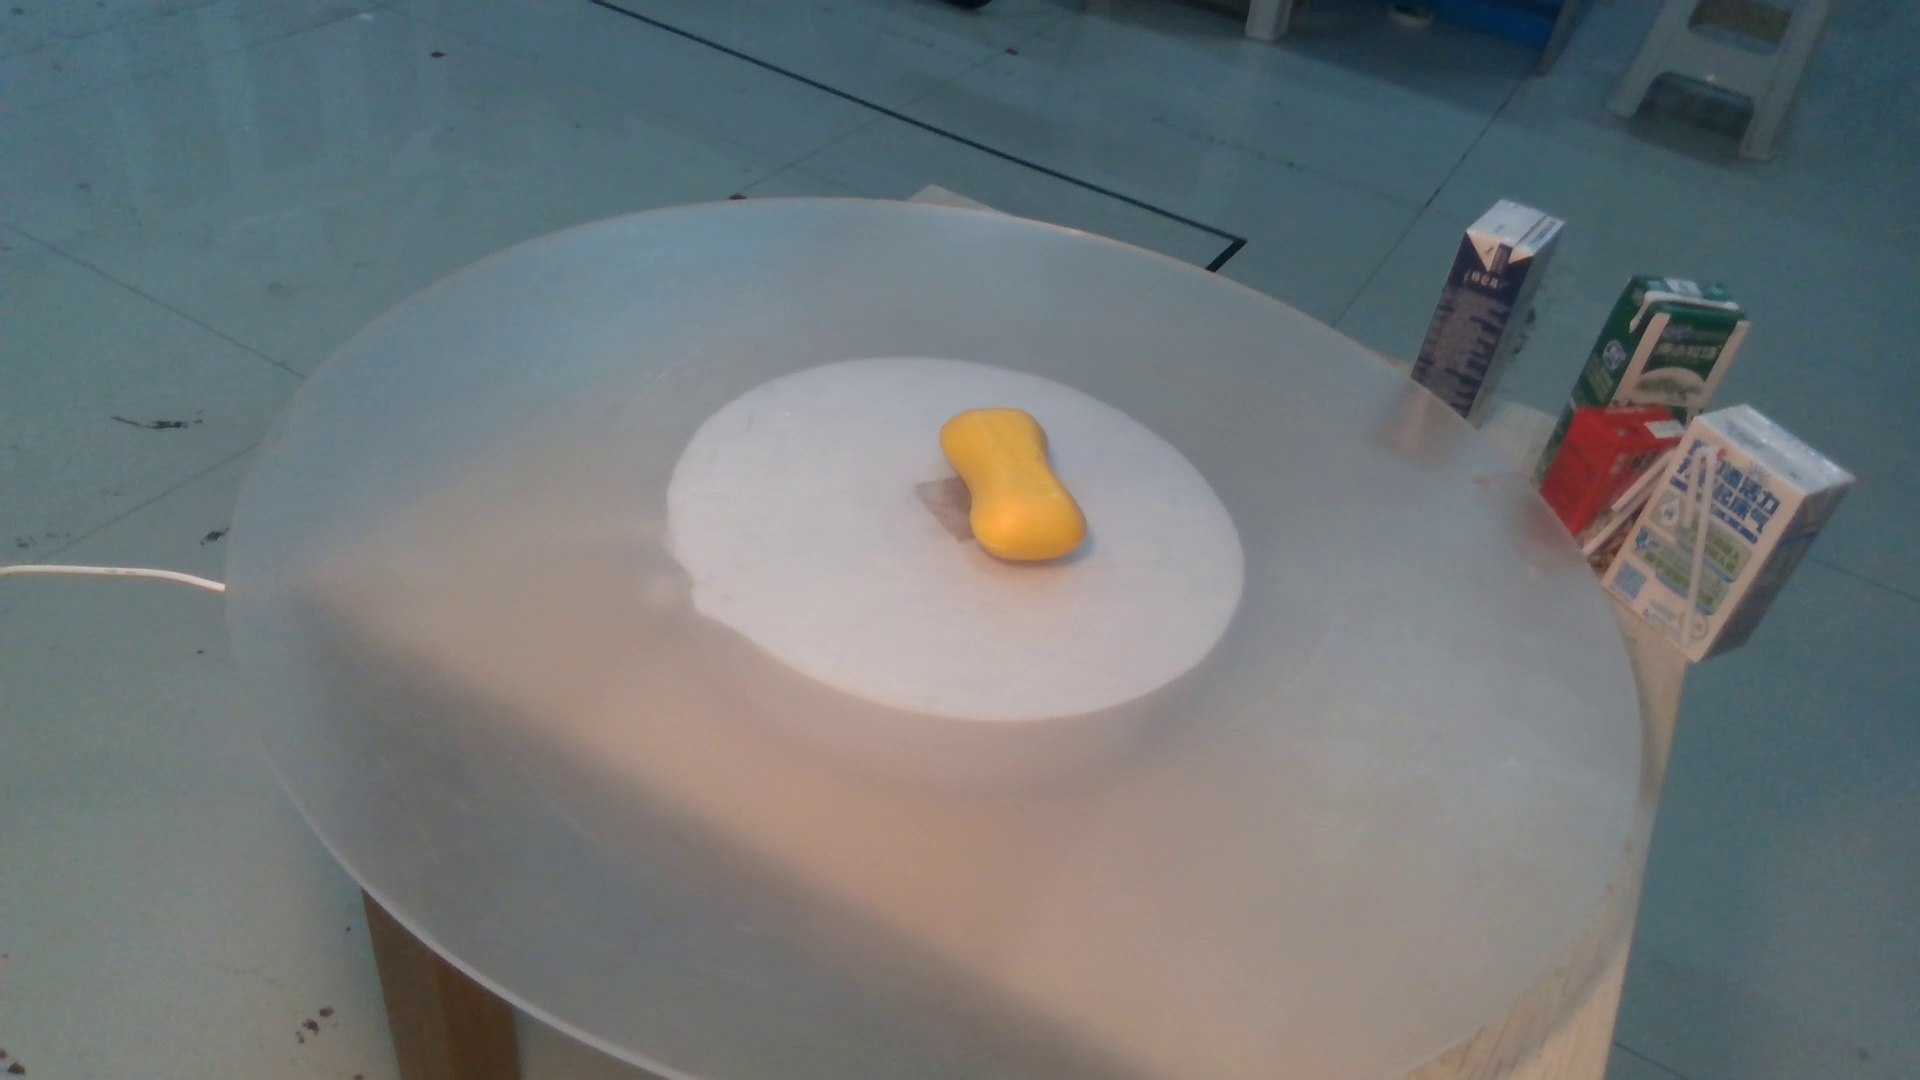CA003_1: (905, 394, 1105, 560)
